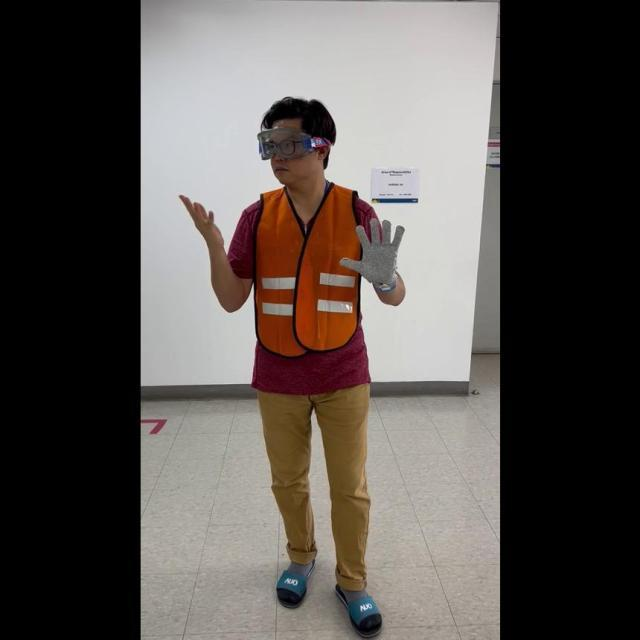bare_hand: (176, 187, 219, 244)
gloved_hand: (342, 210, 406, 290)
